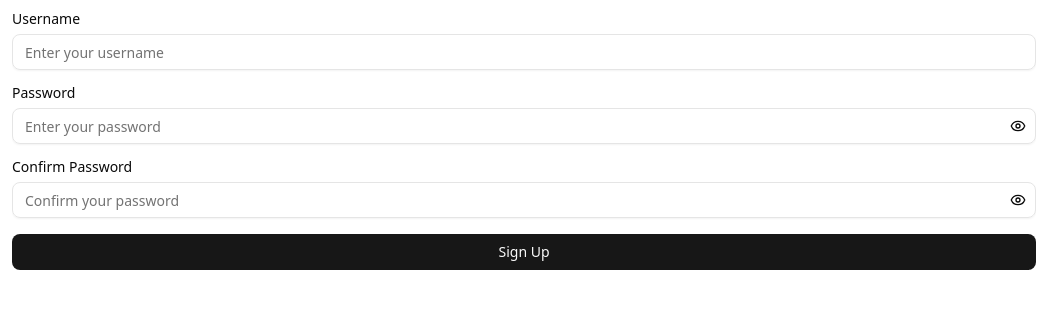
it: SignupForm › should show error when passwords do not match
The width and height of the screenshot is (1048, 315).
Type "testuser" into the field labelled "Username".
click(524, 52); type("testuser")  # box left=12, top=34, right=1036, bottom=70
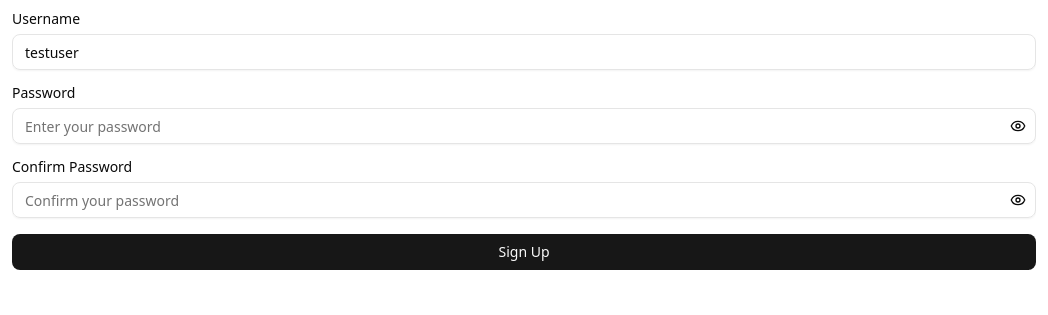
Type "password123" into the password field with placeholder "Enter your password".
click(524, 126); type("password123")  # box left=12, top=108, right=1036, bottom=144
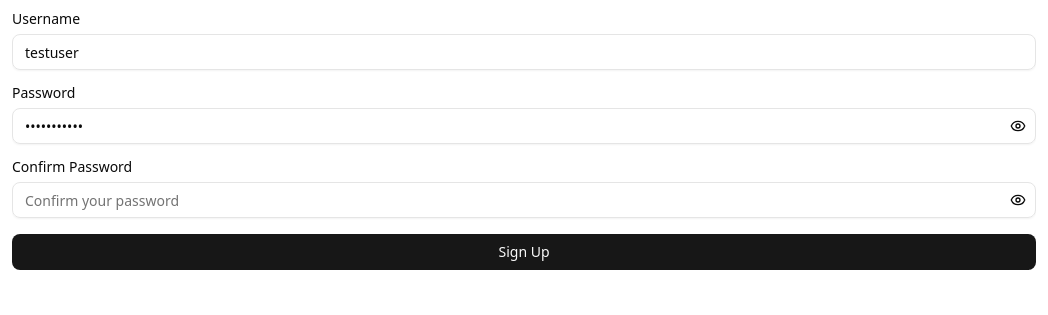
Type "password456" into the password field with placeholder "Confirm your password".
click(524, 200); type("password456")  # box left=12, top=182, right=1036, bottom=218
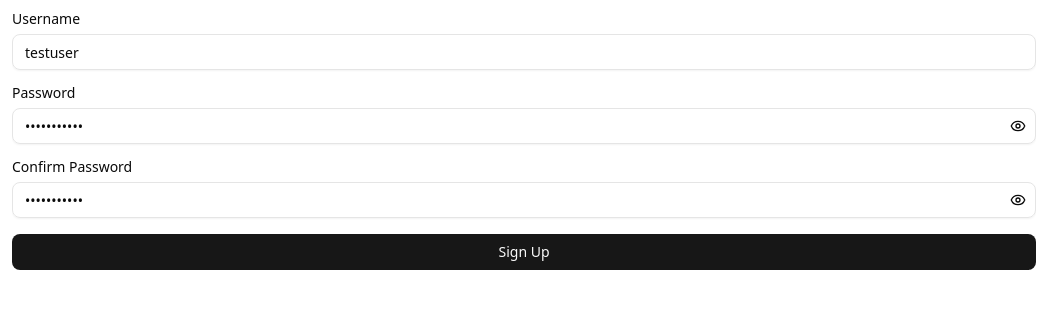
Click the button "Sign Up".
click(524, 252)  # box left=12, top=234, right=1036, bottom=270
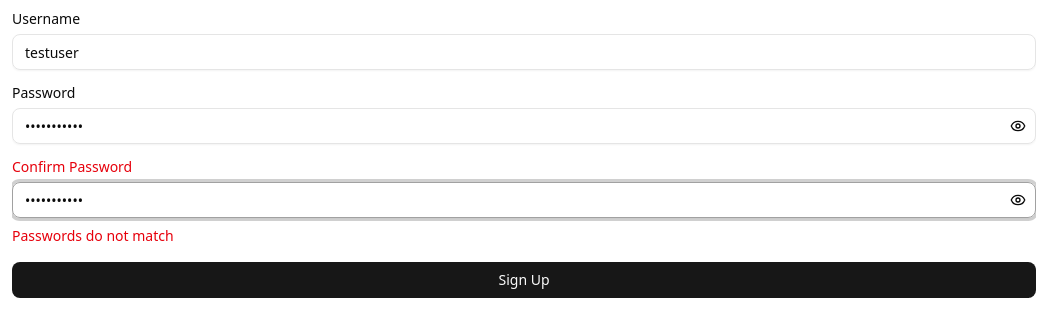
Now the text "Passwords do not match" is shown, box left=12, top=226, right=174, bottom=245
